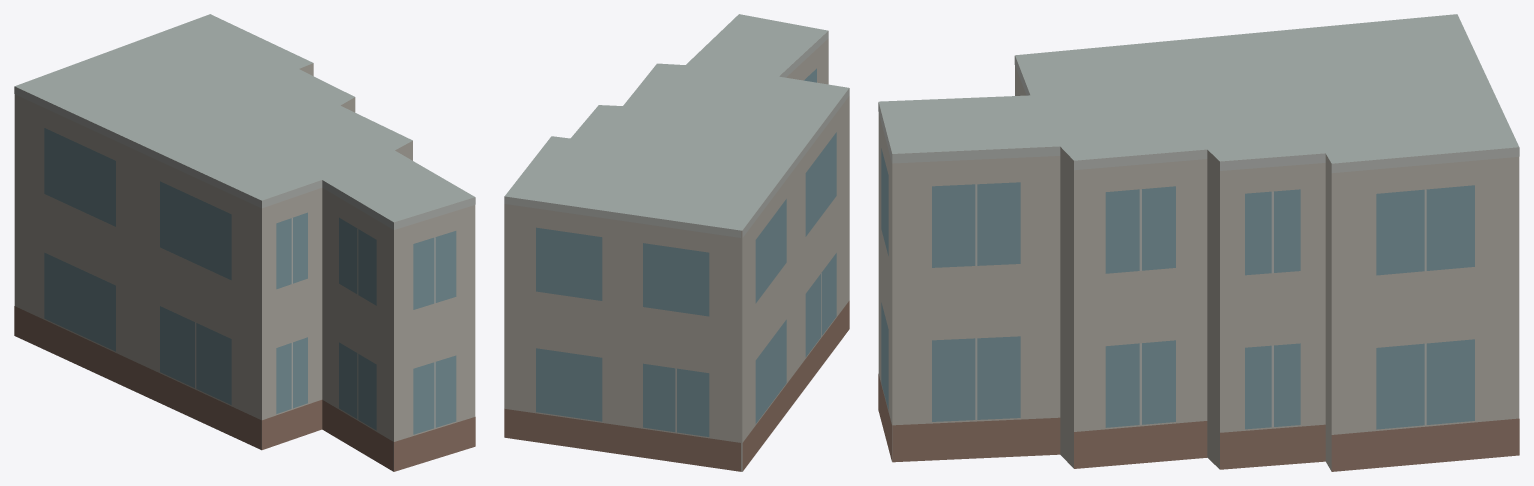
The model's file is survey-upis-32623854.glb.
3 renders of one model, left to right at view 1: azimuth 30°, elevation 25°; view 2: azimuth 150°, elevation 25°; view 3: azimuth 270°, elevation 25°, orthographic. The views are drawn at different scales.
Parts seen in each view (by area): view 1: survey-upis-32623854.tmp; view 2: survey-upis-32623854.tmp; view 3: survey-upis-32623854.tmp.
Boxes of the visible parts, x1=… form: survey-upis-32623854.tmp: x1=14, y1=14, x2=475, y2=471; survey-upis-32623854.tmp: x1=504, y1=14, x2=849, y2=471; survey-upis-32623854.tmp: x1=878, y1=14, x2=1519, y2=471.
Bounding box in the file's own units: 8.24 × 7.9 × 14.91.
